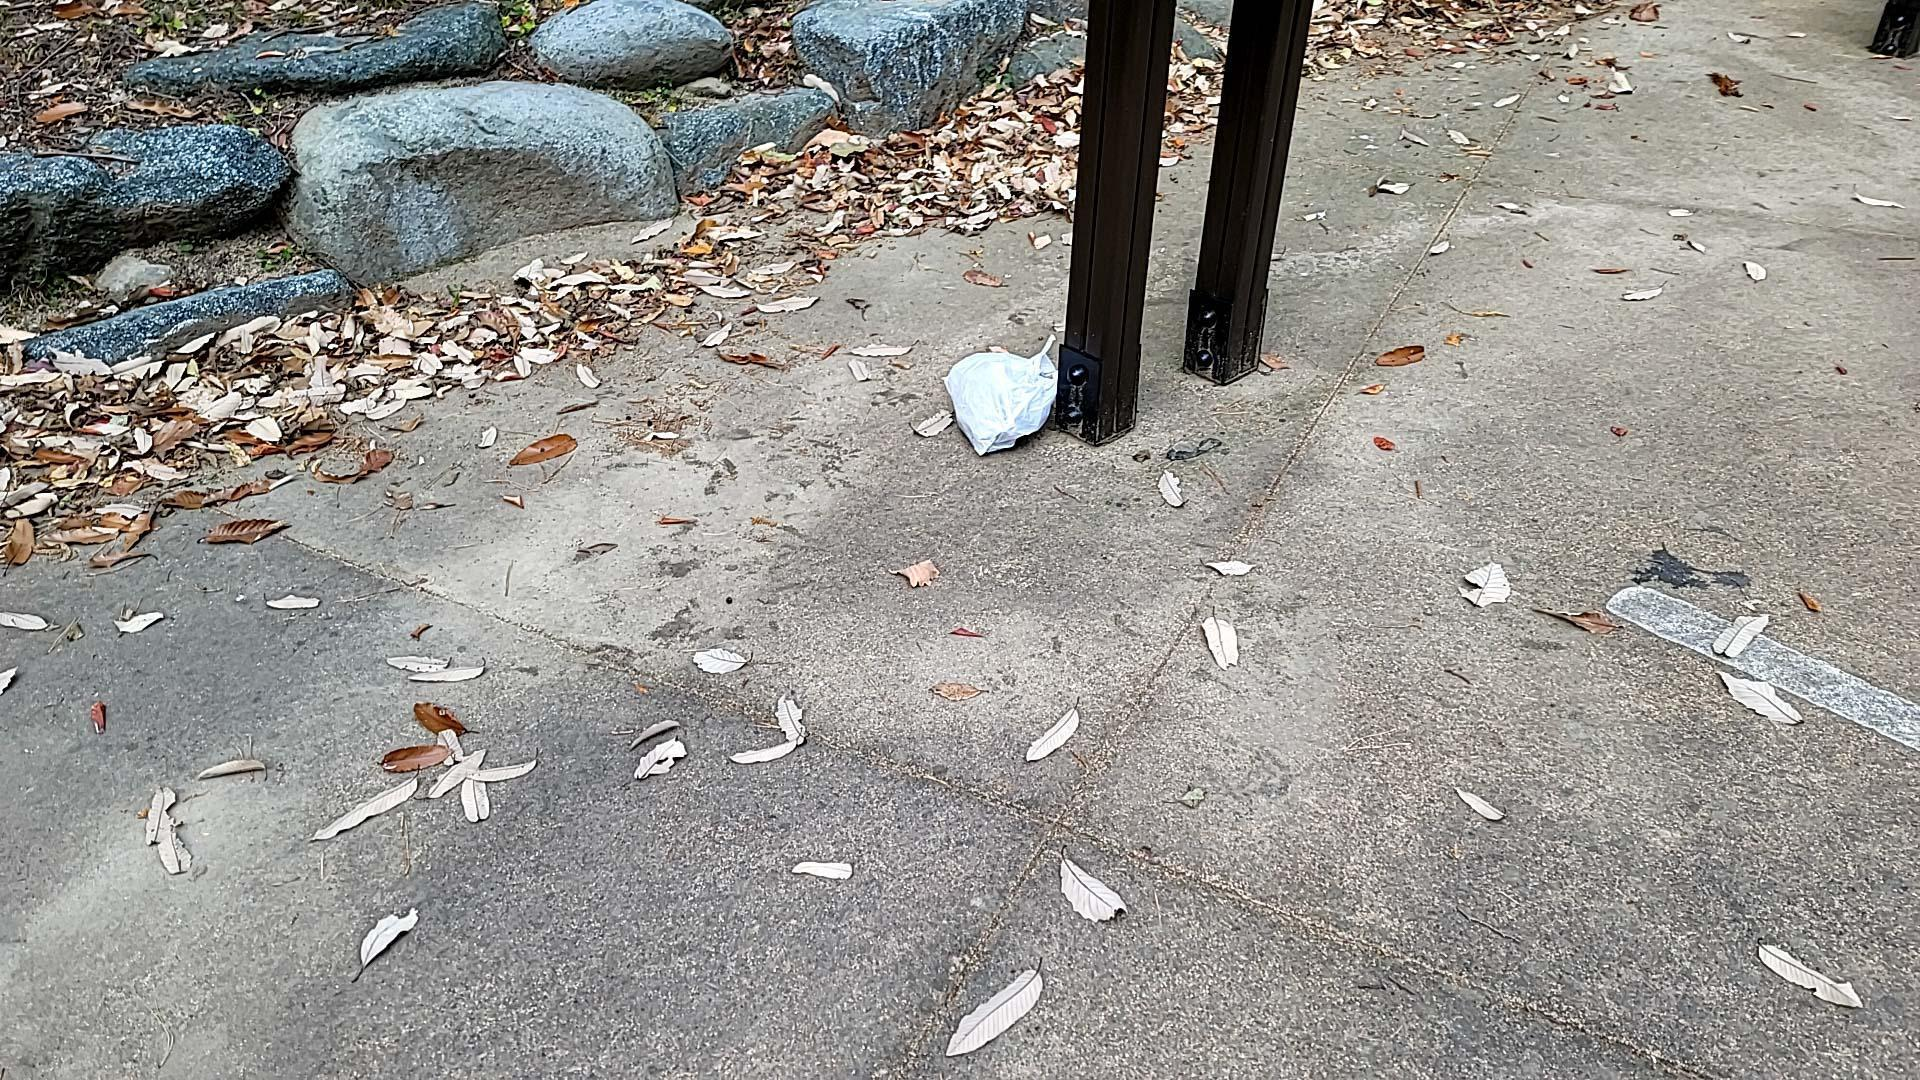white_bag: (938, 331, 1065, 458)
